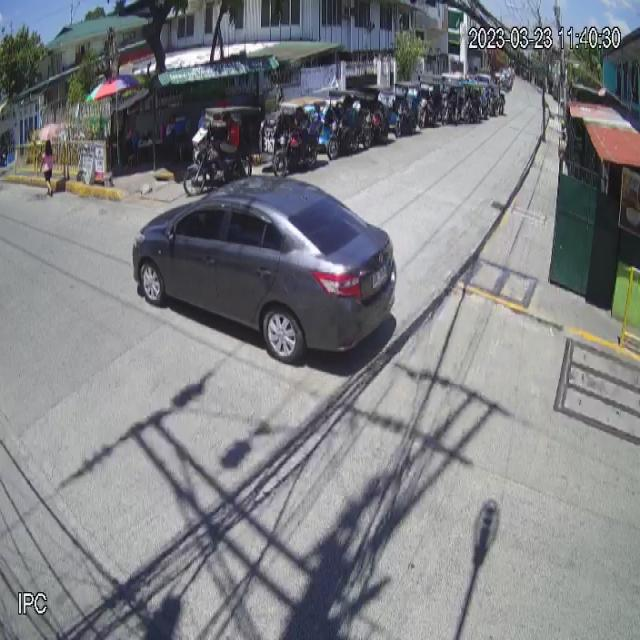Car: (132, 172, 398, 368)
